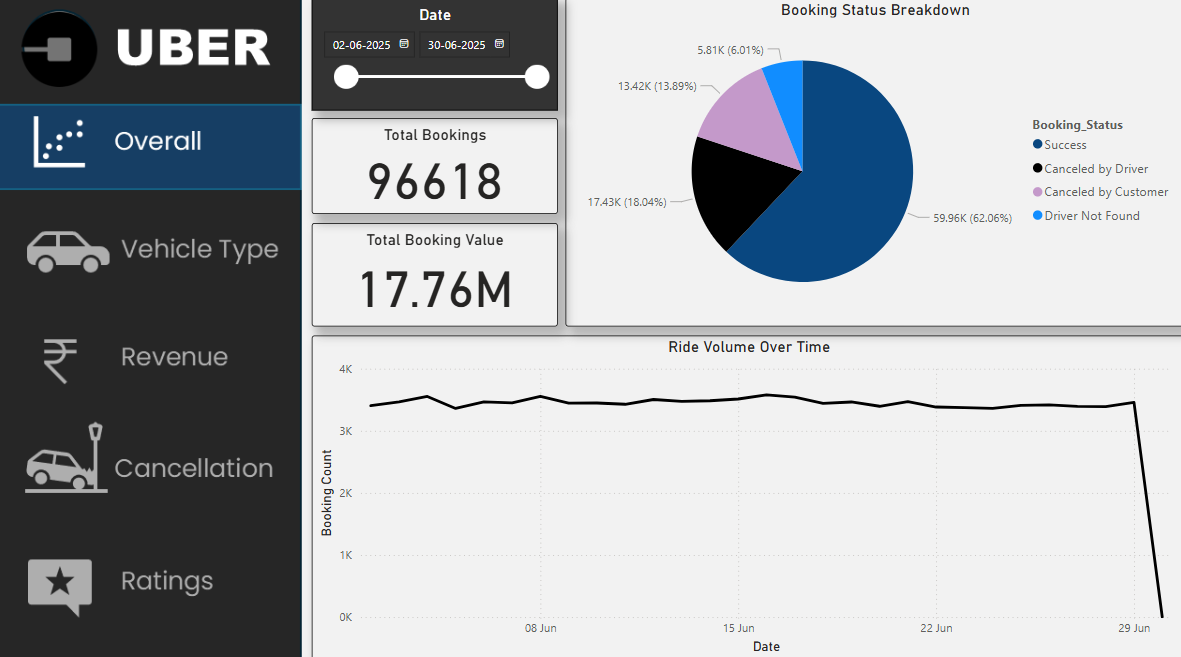

The page's visual inventory and layout, read from the dashboard file:
{"tool":"powerbi","page":{"name":"Overall","canvas":[1280,720],"ordinal":0},"visuals":[{"type":"actionButton","box":[0,220,325,96.7],"z":0},{"type":"actionButton","box":[1.7,333.3,325,96.7],"z":1000},{"type":"actionButton","box":[1.7,448.3,325,96.7],"z":2000},{"type":"actionButton","box":[1.7,576.7,325,96.7],"z":3000},{"type":"pieChart","title":"Booking Status Breakdown","fields":{"Category":["bookings.Booking_Status"],"Y":["CountNonNull(bookings.Booking_Status)"]},"box":[605.7,0,660,350],"z":4000},{"type":"lineChart","title":"Ride Volume Over Time","fields":{"Y":["CountNonNull(bookings.Booking_ID)"],"Category":["bookings.Date"]},"box":[334,360,932,346],"z":5000},{"type":"slicer","title":"Date","fields":{"Values":["bookings.Date"]},"box":[334,0,262,120],"z":6000},{"type":"card","title":"Total Bookings","fields":{"Values":["Count(bookings.Booking_ID)"]},"box":[334,128,262,102],"z":7000},{"type":"card","title":"Total Booking Value","fields":{"Values":["Sum(bookings.Booking_Value)"]},"box":[334,240,262,110],"z":8000}]}

Visuals, with their boxes in screenshot pixels (x1, y1, x2, y2), scaled from the page's 1280x720 canvas onto the 1181x657 screenshot:
actionButton: 0:201:300:289
actionButton: 2:304:301:392
actionButton: 2:409:301:497
actionButton: 2:526:301:614
"Booking Status Breakdown" pieChart: 559:0:1168:319
"Ride Volume Over Time" lineChart: 308:328:1168:644
"Date" slicer: 308:0:550:110
"Total Bookings" card: 308:117:550:210
"Total Booking Value" card: 308:219:550:319
